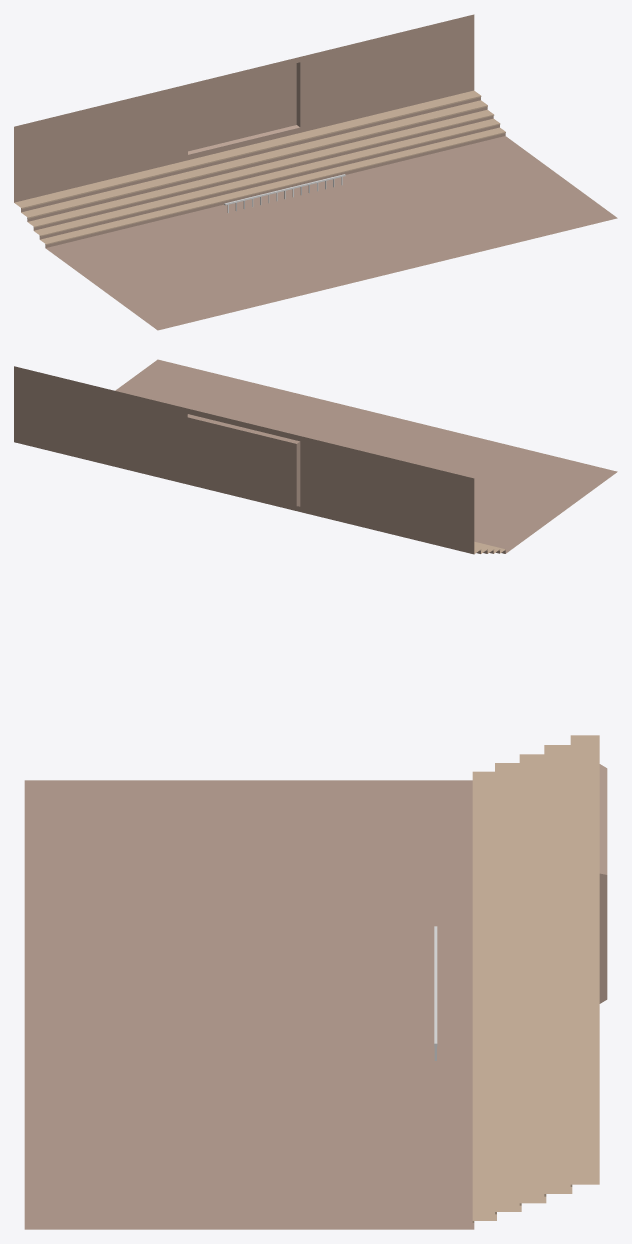
File: Stadium.fbx
3 renders of one model, top to bottom at view 1: azimuth 30°, elevation 25°; view 2: azimuth 150°, elevation 25°; view 3: azimuth 270°, elevation 25°, orthographic. The views are drawn at different scales.
Visible parts, largest first — view 1: Stadium, Fence; view 2: Stadium; view 3: Stadium.
Part boxes in pixels (x1,y1,x2,y2): Stadium: (14,14,617,330); Fence: (224,174,345,213); Stadium: (14,359,617,554); Stadium: (24,735,607,1229).
Bounding box in the file's own units: 3319 × 682 × 1821.
